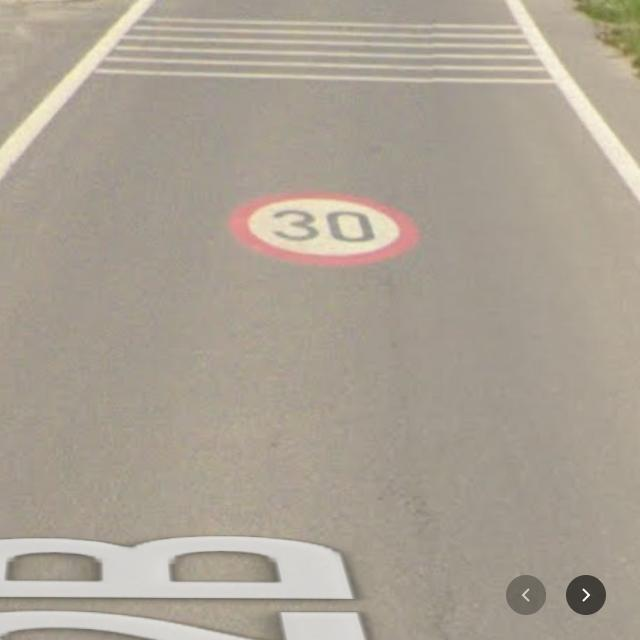forb_speed_over_30: (226, 184, 424, 270)
